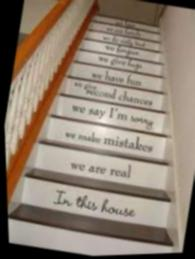Bench: (7, 0, 195, 259)
